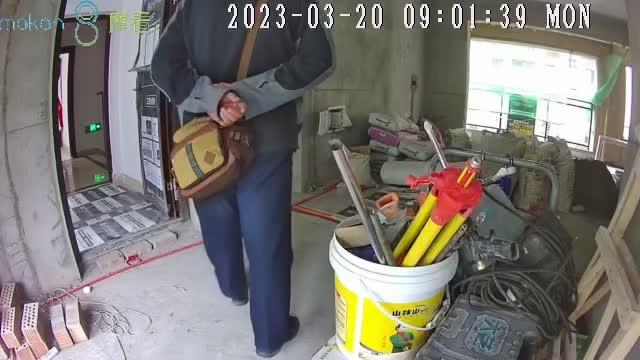people: (150, 1, 336, 358)
window: (468, 35, 603, 153)
